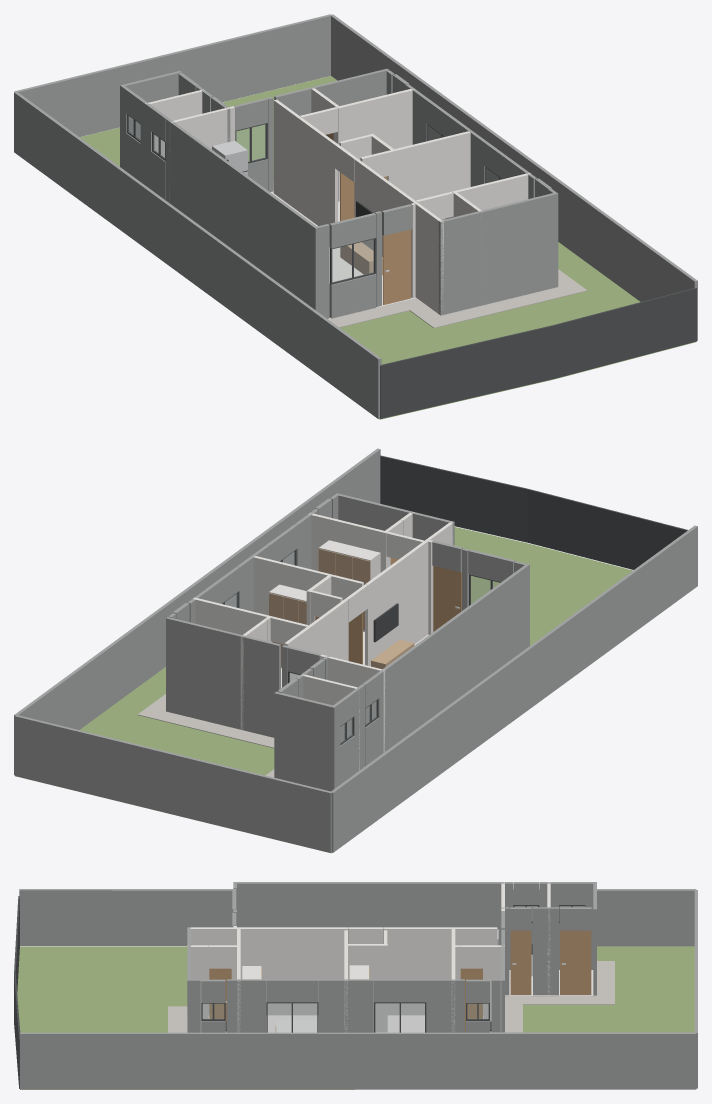
The model's file is casa.glb.
3 renders of one model, top to bottom at view 1: azimuth 30°, elevation 25°; view 2: azimuth 150°, elevation 25°; view 3: azimuth 270°, elevation 25°, orthographic. The views are drawn at different scales.
Parts seen in each view (by area): view 1: fachada, parede, esquadria, grama, concreto, vidro, door5_swing__porta, piso, madeira, inox, door3_swing__porta; view 2: fachada, parede, esquadria, grama, madeira, concreto, door5_swing__porta, armario, vidro, door2_swing__porta; view 3: fachada, grama, parede, vidro, concreto, door6_swing__porta, esquadria, door0_swing__porta, piso, armario, door1_swing__porta, enxoval (+1 smaller).
Part boxes in pixels (bbox=[...]): fachada: bbox=[14, 14, 697, 418]; parede: bbox=[145, 88, 531, 314]; esquadria: bbox=[127, 114, 696, 418]; grama: bbox=[80, 76, 695, 419]; concreto: bbox=[273, 180, 587, 328]; vidro: bbox=[128, 115, 498, 282]; door5_swing__porta: bbox=[383, 229, 411, 304]; piso: bbox=[270, 190, 558, 319]; madeira: bbox=[340, 219, 444, 275]; inox: bbox=[212, 140, 247, 175]; door3_swing__porta: bbox=[340, 172, 354, 220]; fachada: bbox=[14, 448, 697, 852]; parede: bbox=[193, 511, 453, 770]; esquadria: bbox=[222, 455, 687, 745]; grama: bbox=[17, 527, 632, 853]; madeira: bbox=[269, 549, 414, 669]; concreto: bbox=[137, 631, 433, 777]; door5_swing__porta: bbox=[433, 566, 461, 631]; armario: bbox=[269, 540, 380, 668]; vidro: bbox=[225, 551, 499, 742]; door2_swing__porta: bbox=[348, 612, 362, 664]; fachada: bbox=[19, 882, 697, 1089]; grama: bbox=[17, 946, 694, 1089]; parede: bbox=[187, 882, 550, 1032]; vidro: bbox=[203, 906, 584, 1032]; concreto: bbox=[168, 961, 614, 1032]; door6_swing__porta: bbox=[560, 930, 591, 994]; esquadria: bbox=[14, 896, 585, 1088]; door0_swing__porta: bbox=[510, 930, 531, 994]; piso: bbox=[187, 970, 595, 1032]; armario: bbox=[225, 954, 532, 1032]; door1_swing__porta: bbox=[209, 968, 231, 1021]; enxoval: bbox=[276, 1019, 318, 1032].
Size of the model in its own units: 10.07 by 2.83 by 20.06.
